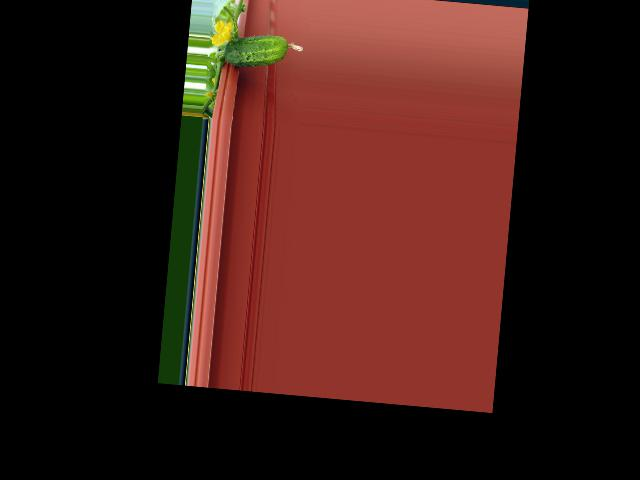cucumber: (223, 30, 304, 71)
